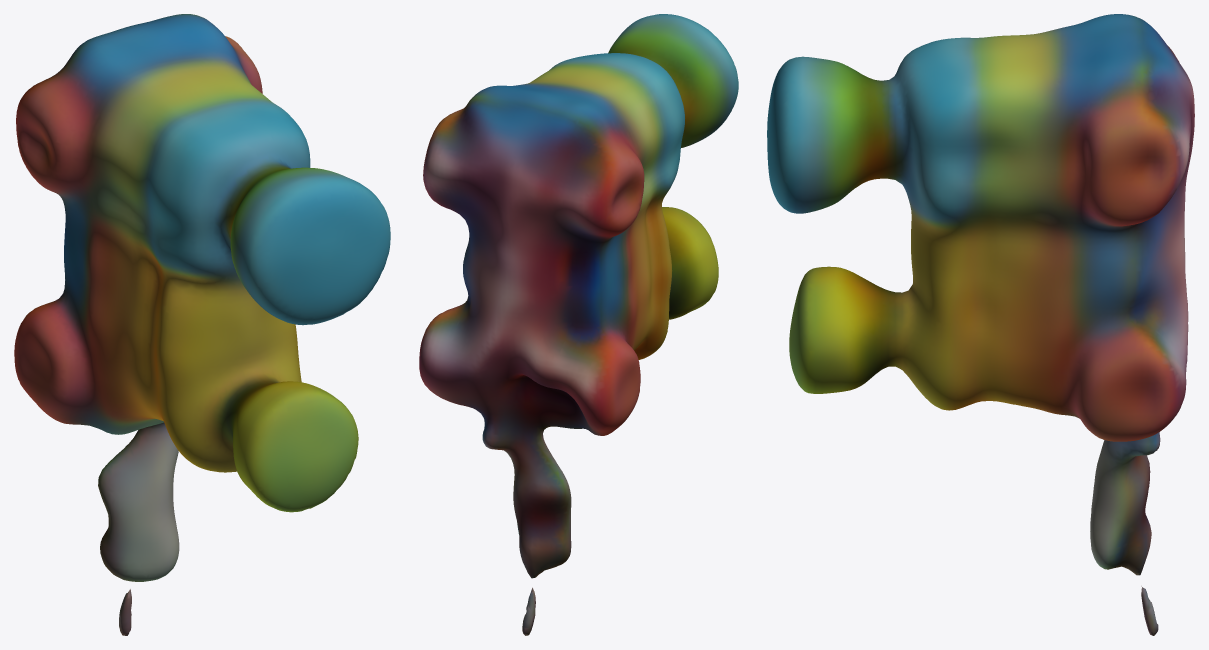
Rendered from train.glb.
3 renders of one model, left to right at view 1: azimuth 30°, elevation 25°; view 2: azimuth 150°, elevation 25°; view 3: azimuth 270°, elevation 25°, orthographic. The views are drawn at different scales.
Size of the model in its own units: 0.3768 by 0.9978 by 0.6427.
